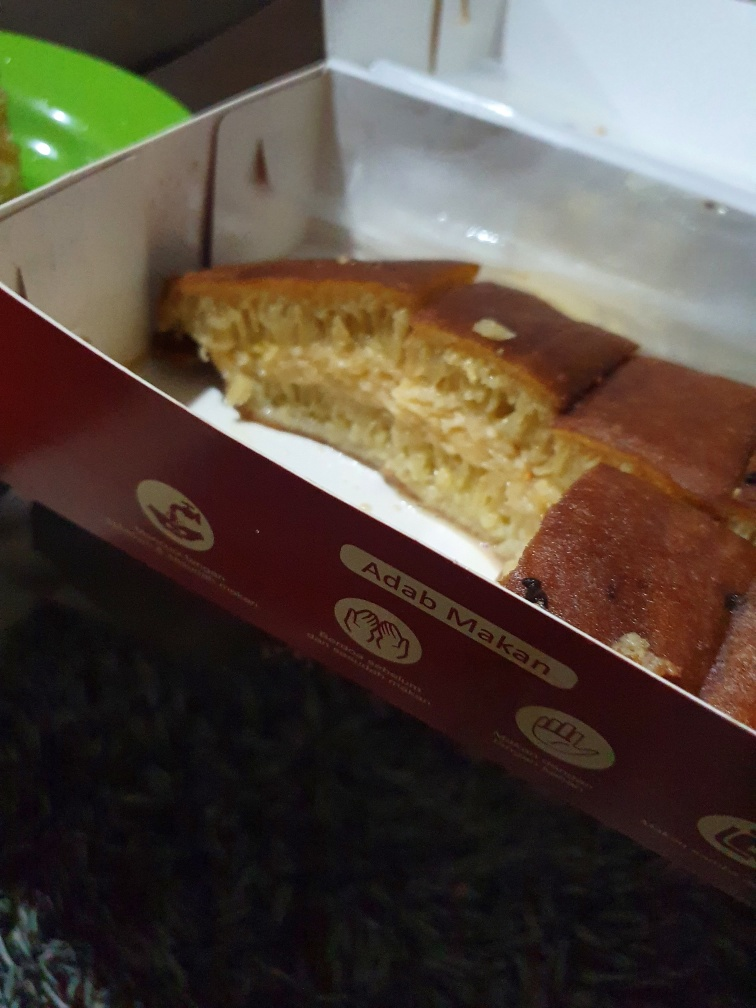martabak manis: (472, 441, 743, 722), (165, 228, 417, 470), (533, 306, 756, 531), (379, 259, 556, 506)
